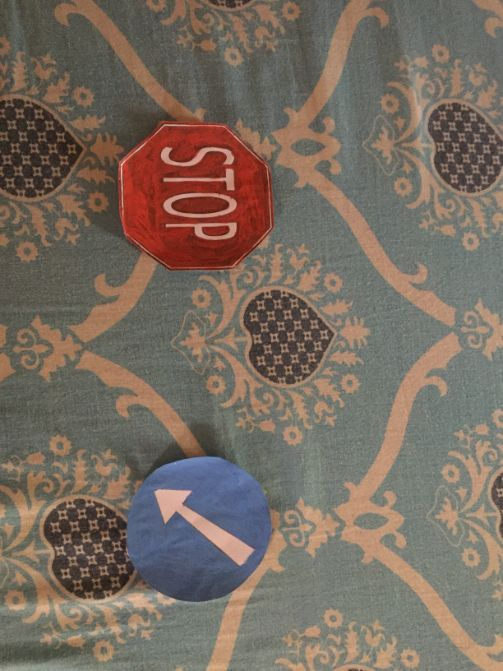keep-left: (126, 455, 269, 604)
stop: (120, 121, 276, 271)
